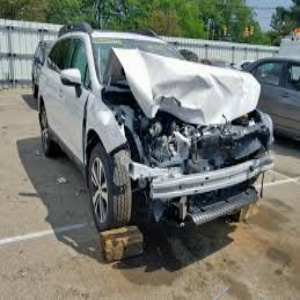bonnet: (111, 45, 263, 123)
bumper: (136, 144, 271, 232)
